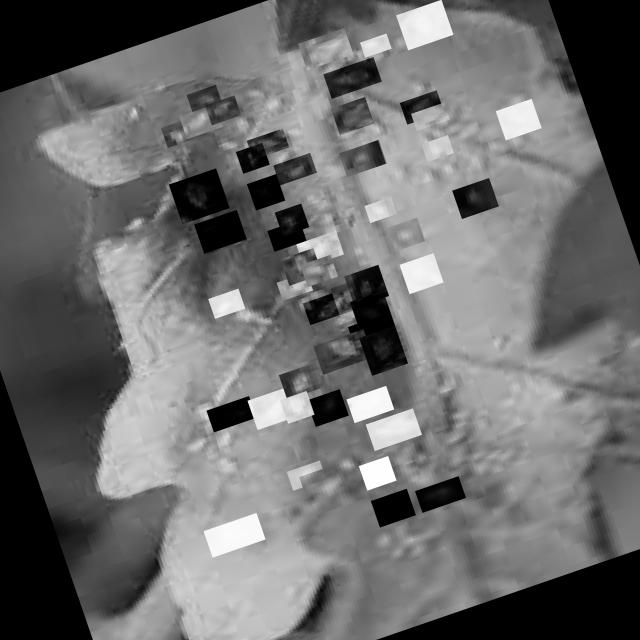aphid: (168, 168, 228, 224), (395, 0, 452, 50), (202, 513, 264, 558), (312, 328, 372, 374), (322, 56, 381, 98), (358, 326, 407, 376), (364, 408, 420, 451), (297, 28, 352, 70), (192, 210, 245, 253), (298, 462, 351, 505), (343, 264, 388, 308), (494, 98, 540, 140), (246, 388, 292, 430), (450, 178, 498, 218), (296, 230, 344, 268), (398, 253, 442, 294), (302, 288, 352, 324), (205, 396, 255, 432), (414, 476, 464, 512), (338, 140, 386, 177), (370, 488, 414, 528), (345, 386, 393, 422), (347, 312, 396, 347), (278, 362, 322, 400), (330, 97, 373, 135), (348, 290, 391, 328), (279, 248, 321, 286), (306, 388, 348, 426), (178, 104, 222, 139), (398, 90, 442, 124), (272, 152, 316, 185), (246, 174, 284, 211), (245, 128, 288, 159), (329, 279, 365, 315), (386, 217, 424, 251), (358, 456, 396, 490), (266, 220, 305, 252), (299, 254, 337, 286), (285, 460, 325, 490), (273, 203, 308, 236), (279, 391, 314, 424), (207, 288, 244, 318), (409, 102, 448, 130), (234, 142, 268, 174), (160, 118, 196, 148), (204, 95, 240, 125), (276, 272, 312, 300), (420, 134, 453, 162), (186, 85, 220, 112), (364, 196, 396, 222), (359, 33, 391, 57)
